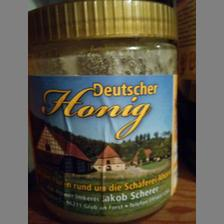Honig: (27, 0, 179, 220)
